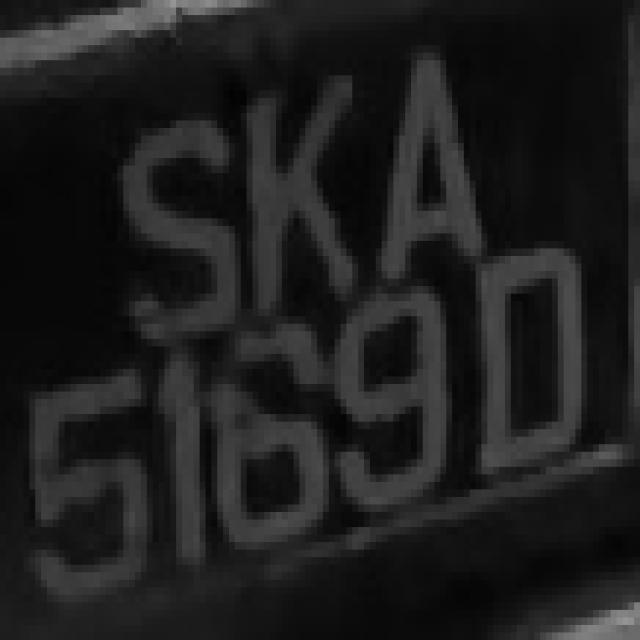1: (147, 324, 229, 602)
5: (18, 347, 164, 632)
6: (188, 294, 335, 580)
9: (323, 241, 458, 535)
A: (347, 30, 488, 286)
D: (452, 233, 593, 504)
K: (235, 53, 364, 316)
S: (100, 120, 241, 354)
